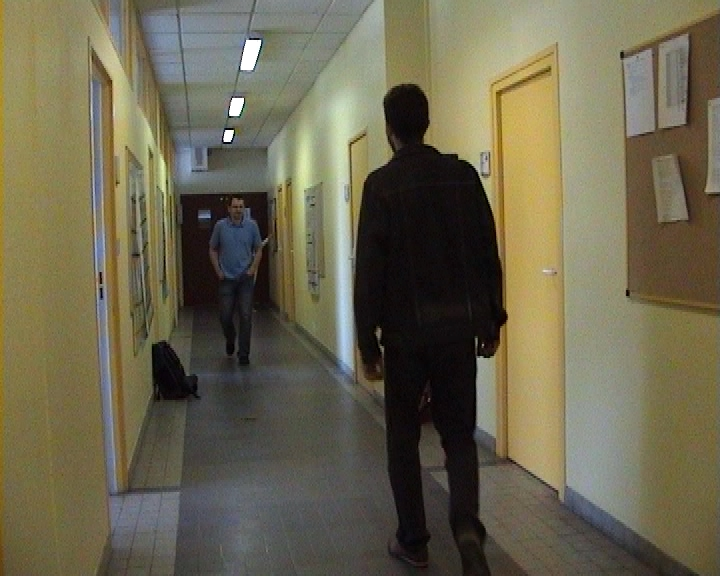leave bag unattended: (136, 322, 217, 427)
